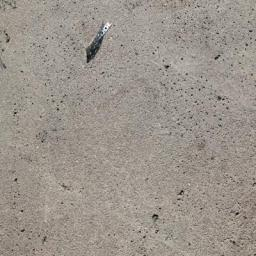FOD: (85, 19, 115, 67)
